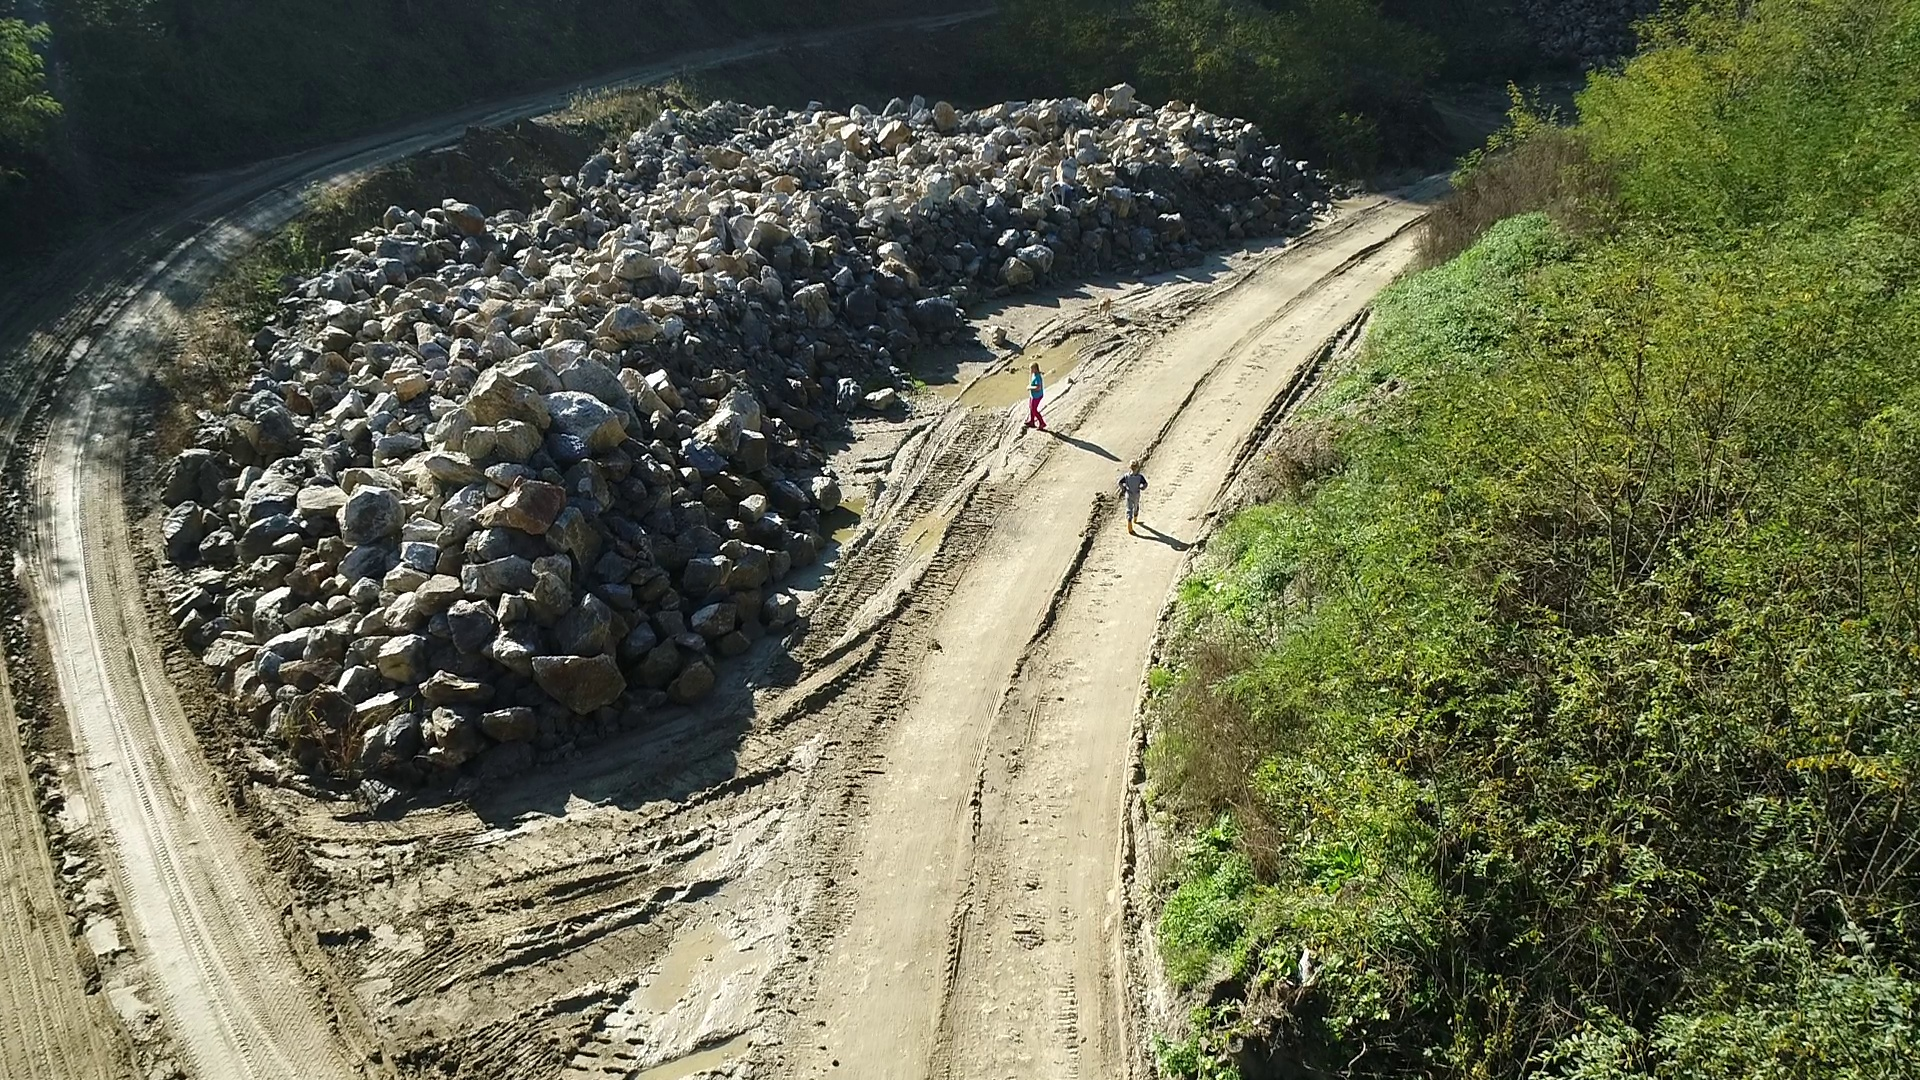person: (1118, 457, 1149, 535), (1024, 361, 1047, 431), (1049, 180, 1076, 207)
